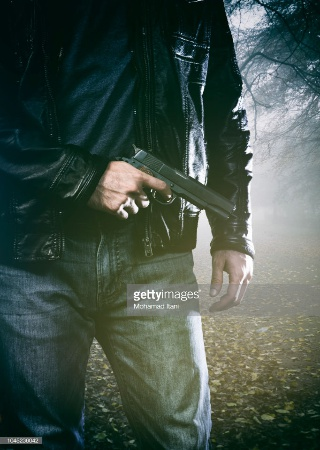handgun: (123, 140, 239, 229)
